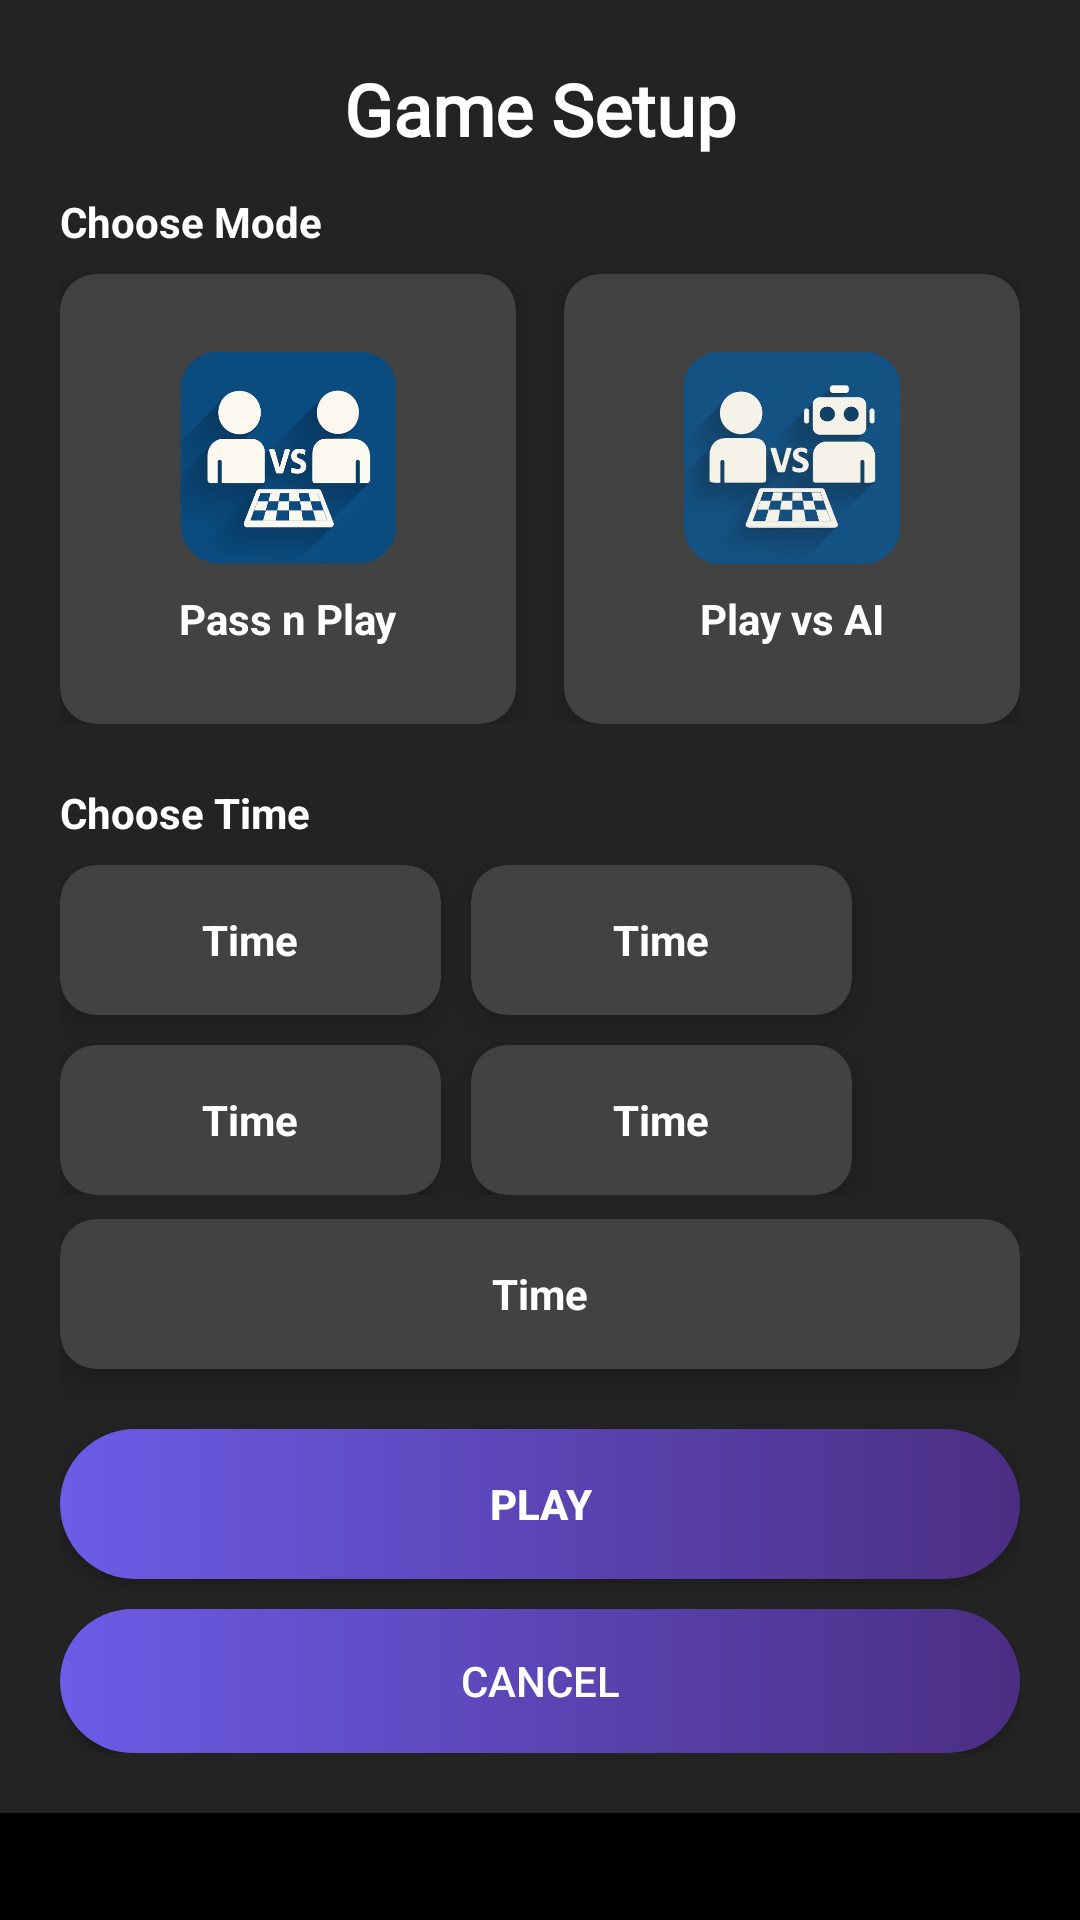

Where to tap for icons on this 1080 x 1920 app screen, as point (x, y):
two player box: point (288, 458)
